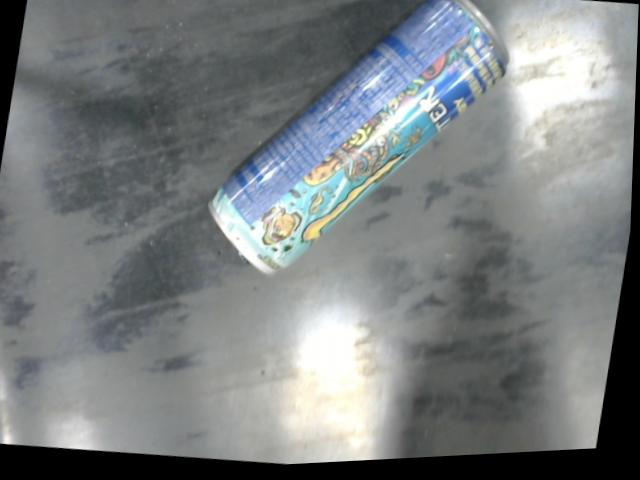can: (206, 0, 512, 282)
